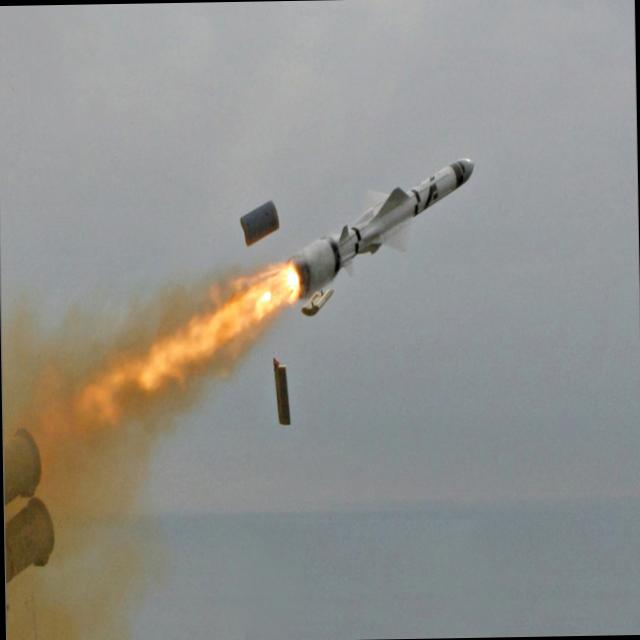rocket: (276, 145, 480, 334)
